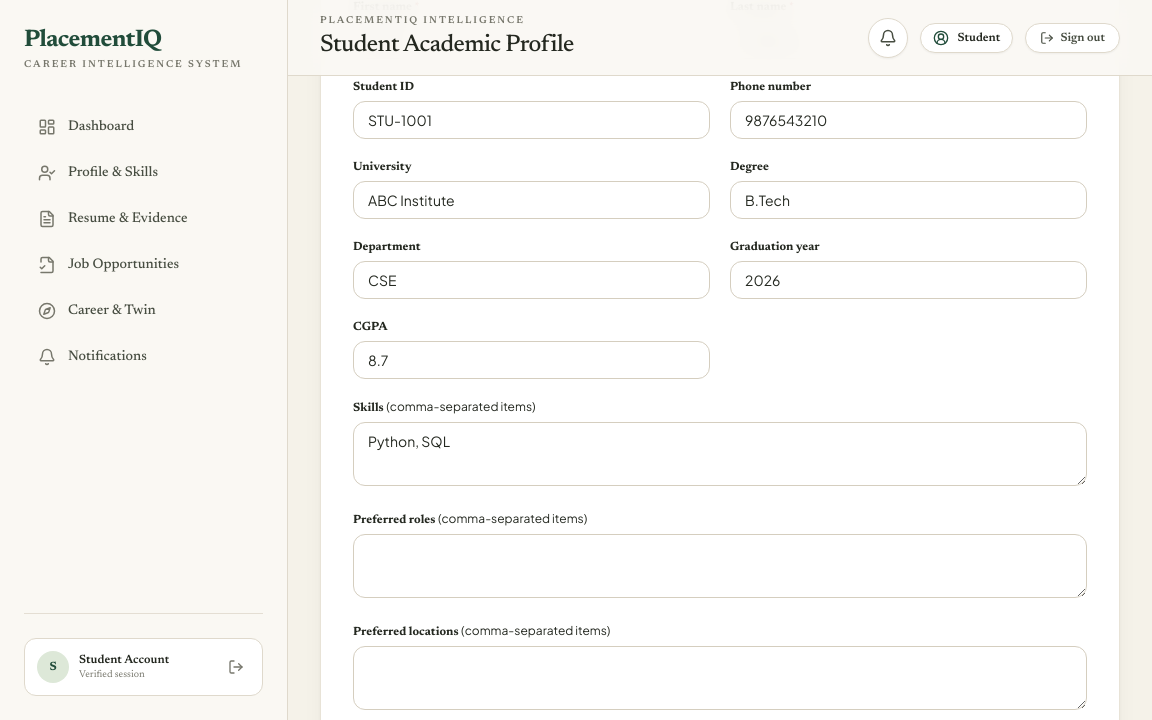
Scenario: loads, edits, and saves academic details and skills
This screenshot has width=1152, height=720.
(page scrolled)
Replace the text in the number field labelled "CGPA" with "9.1": (532, 360) [353,341,710,379]
(page scrolled)
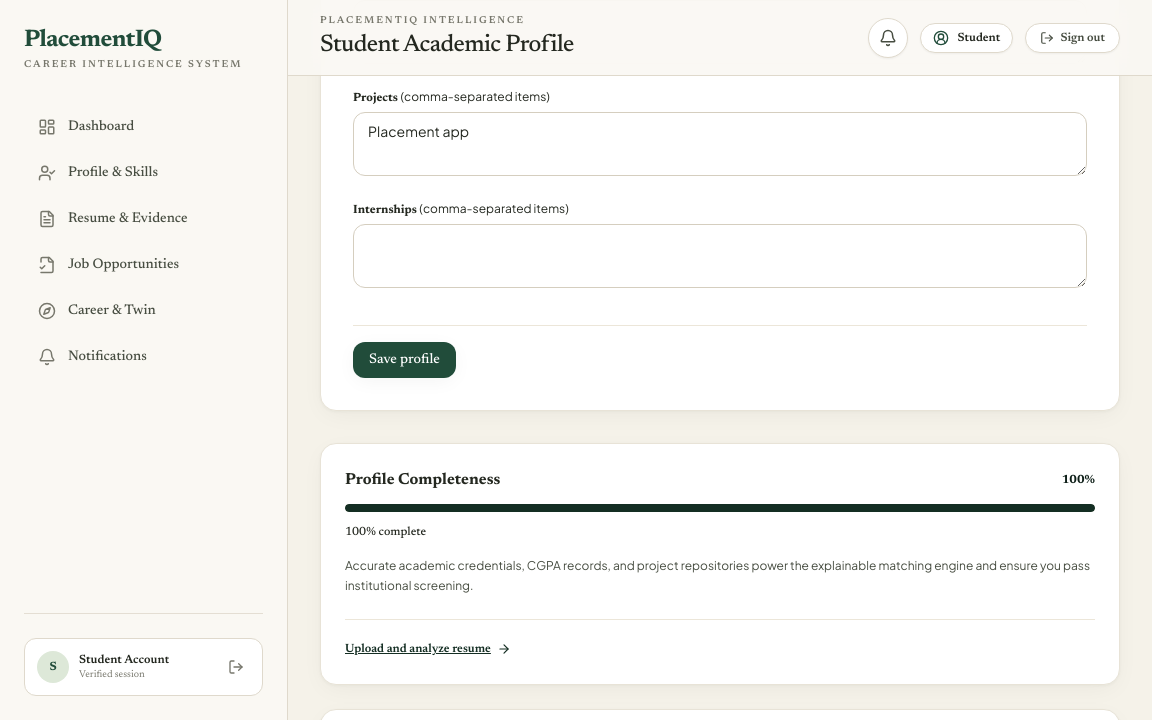
Click the button "Save profile": (404, 360) [353,342,456,378]
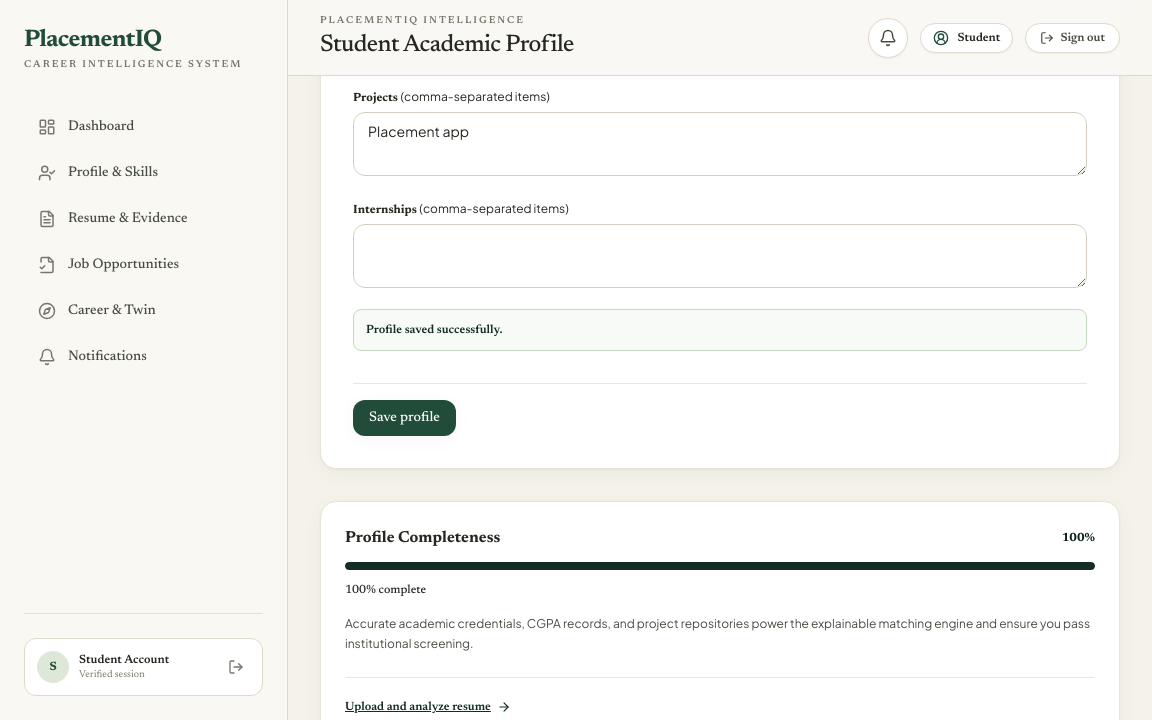
Check: the text "100% complete" is shown, box [345,584,426,596]
Check: the message reads "Profile saved successfully.", box [366,324,502,336]
